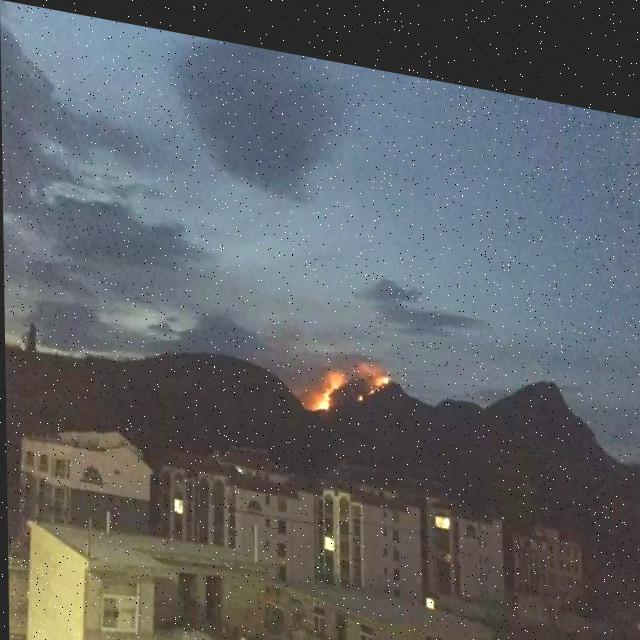Fire: (306, 339, 396, 408)
